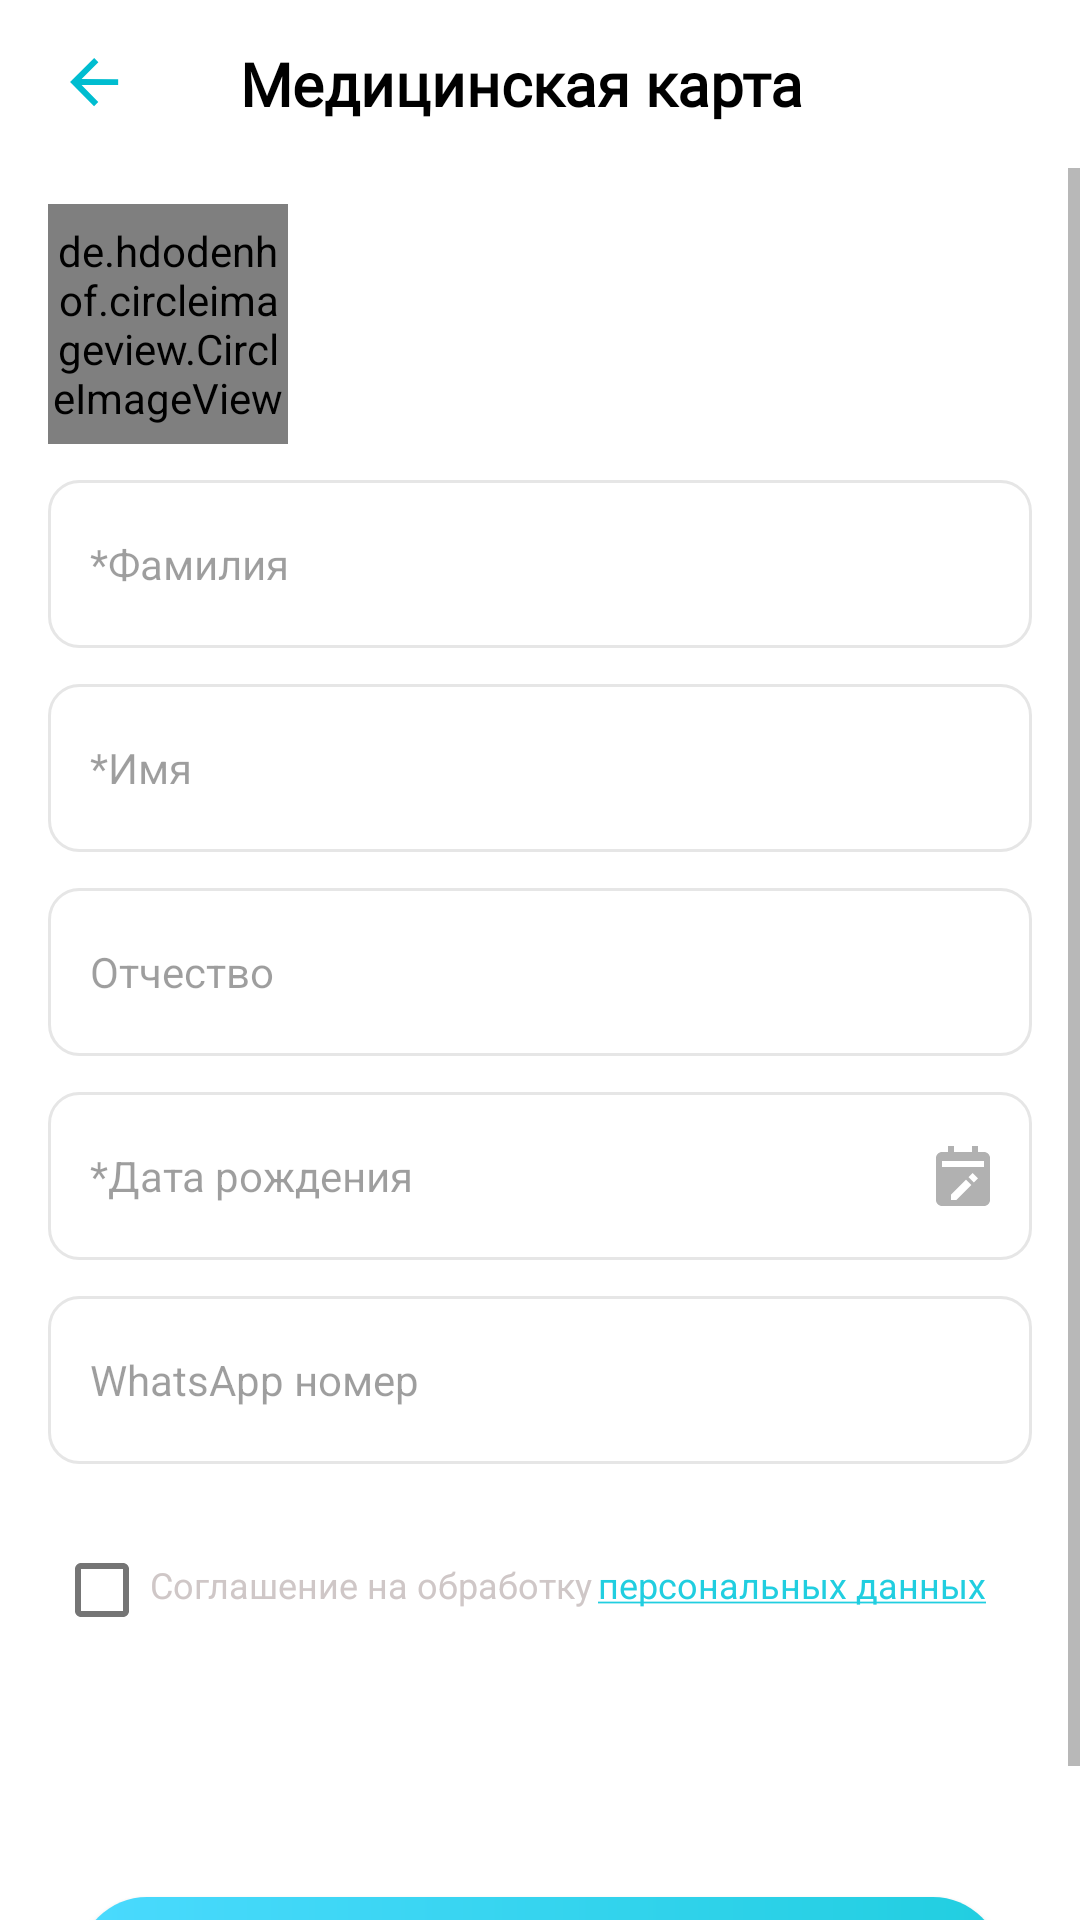

Icon bounding boxes for this 1080x1920 phone screenshot, format (x1, y1, x2, y2):
arrow back: (70, 58, 119, 106)
